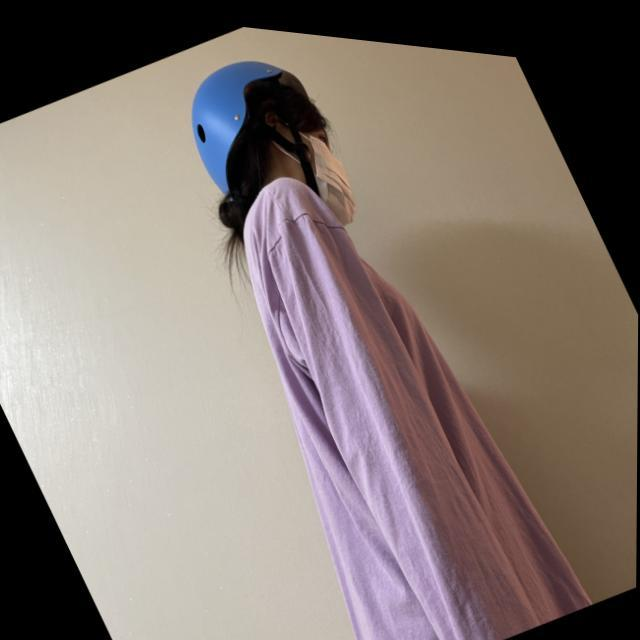Helmet: (173, 50, 372, 243)
